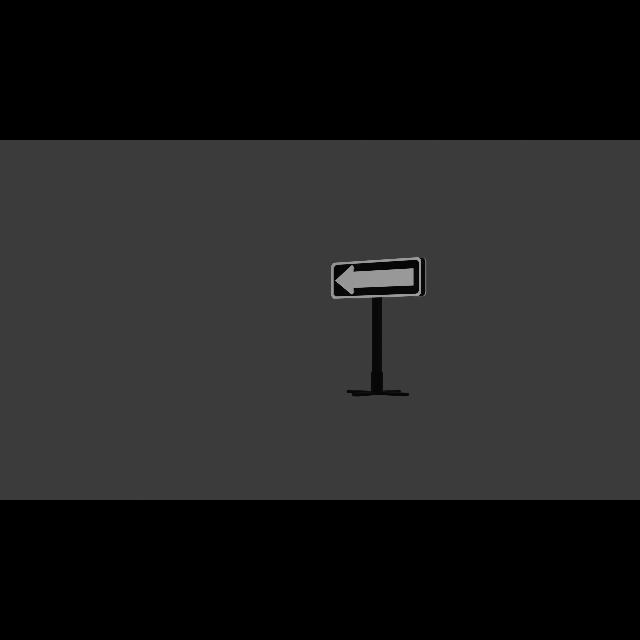sign_oneway_left: (331, 258, 427, 301)
